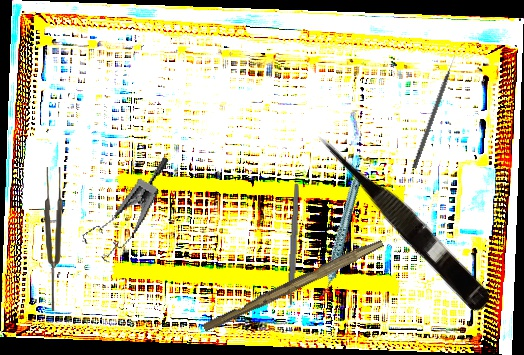Handpiece: (294, 172, 386, 299)
Hook Surgical: (411, 52, 459, 170)
Micro Scissor: (310, 122, 498, 316)
Scalpel Handle: (201, 233, 385, 337), (286, 182, 301, 307)
Speculum: (76, 140, 171, 271)
Tissue Forceps: (42, 166, 64, 312)
